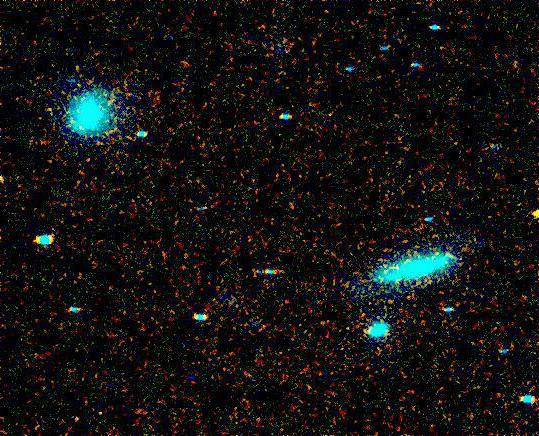star: (521, 199, 539, 229)
